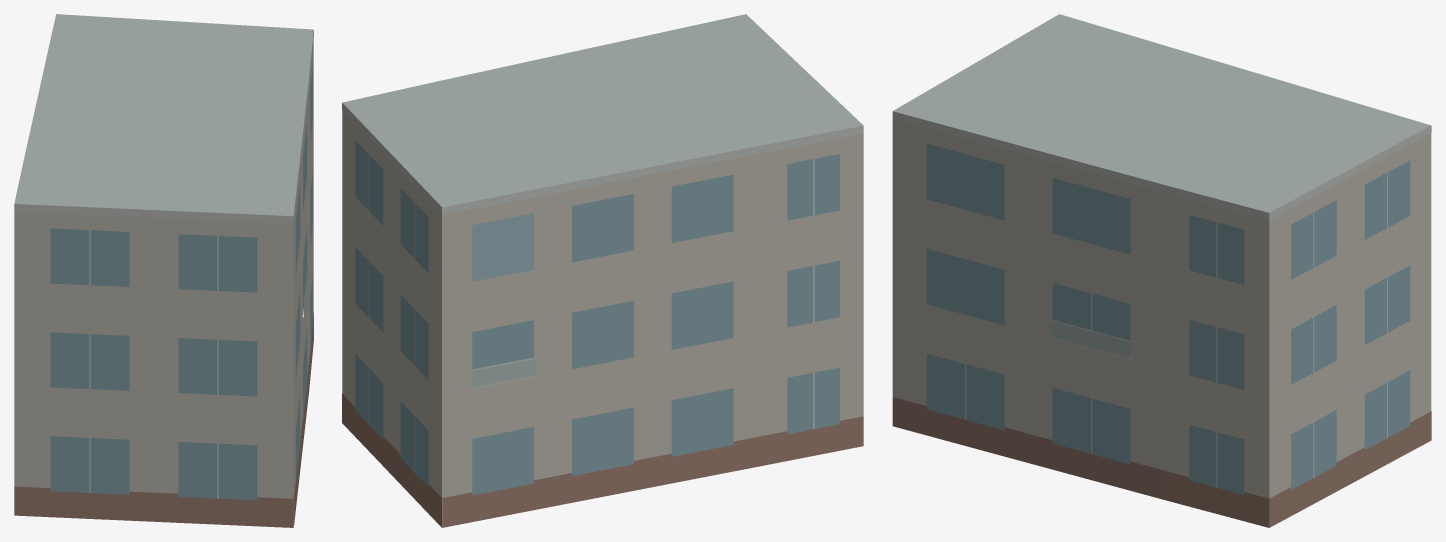
File: survey-upis-32488084.glb
3 renders of one model, left to right at view 1: azimuth 30°, elevation 25°; view 2: azimuth 150°, elevation 25°; view 3: azimuth 270°, elevation 25°, orthographic. The views are drawn at different scales.
Visible parts, largest first — view 1: survey-upis-32488084.tmp; view 2: survey-upis-32488084.tmp; view 3: survey-upis-32488084.tmp.
Part boxes in pixels (x1,y1,x2,y2): survey-upis-32488084.tmp: (14,14,313,527); survey-upis-32488084.tmp: (342,14,863,527); survey-upis-32488084.tmp: (892,14,1431,527).
Bounding box in the file's own units: 13.69 × 10.1 × 15.67.
